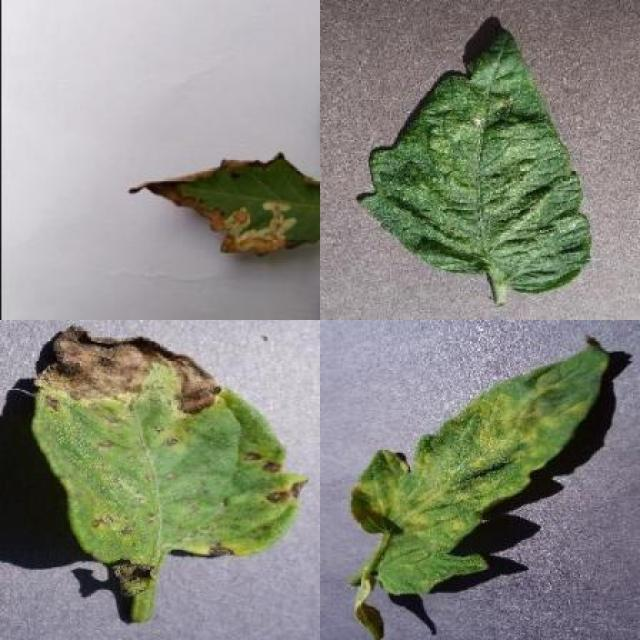Leaf Miner: (145, 151, 321, 256)
Leaf Mold: (353, 335, 613, 595)
Septoria: (35, 322, 311, 568)
Spider Mites: (360, 25, 593, 295)
